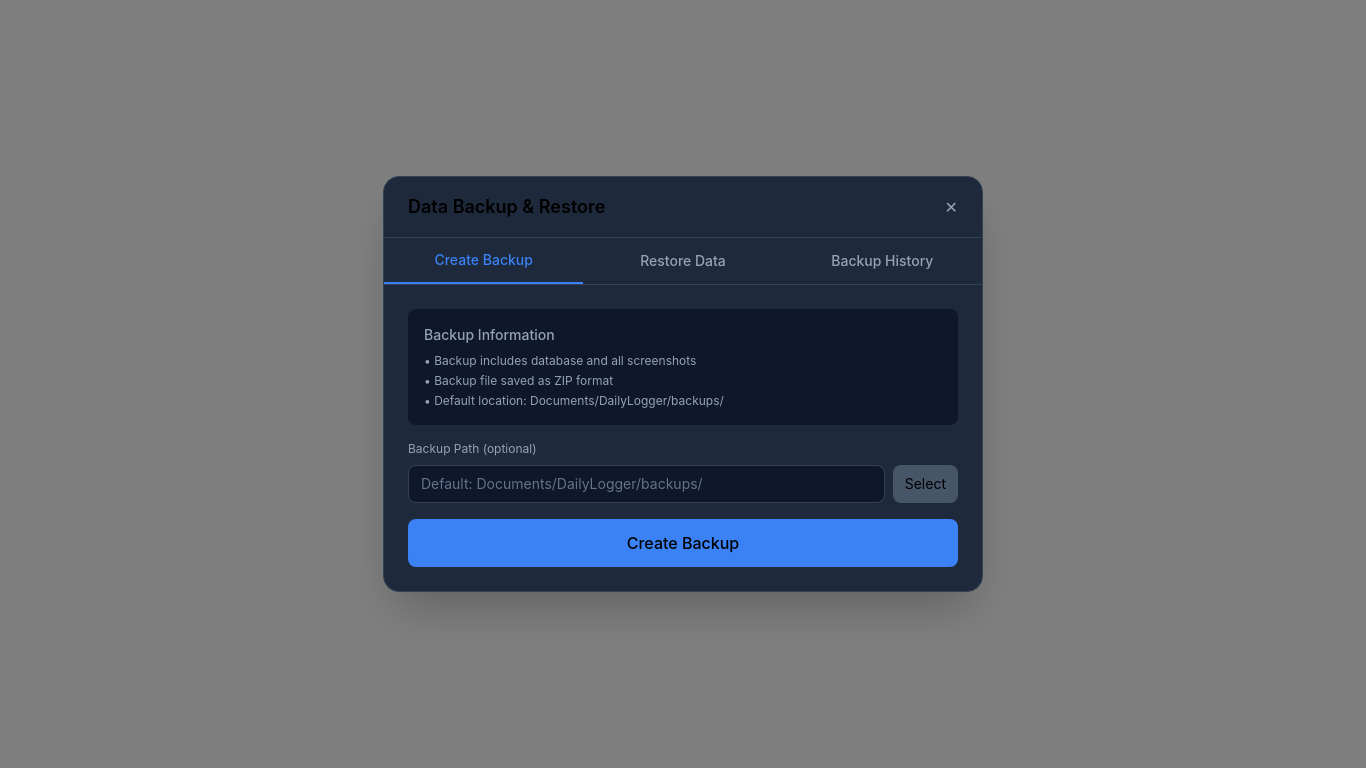
BackupModal › Tab Navigation › switches to history tab when clicked
This screenshot has width=1366, height=768.
Click the button "Backup History": (882, 261) [783,238,982,284]
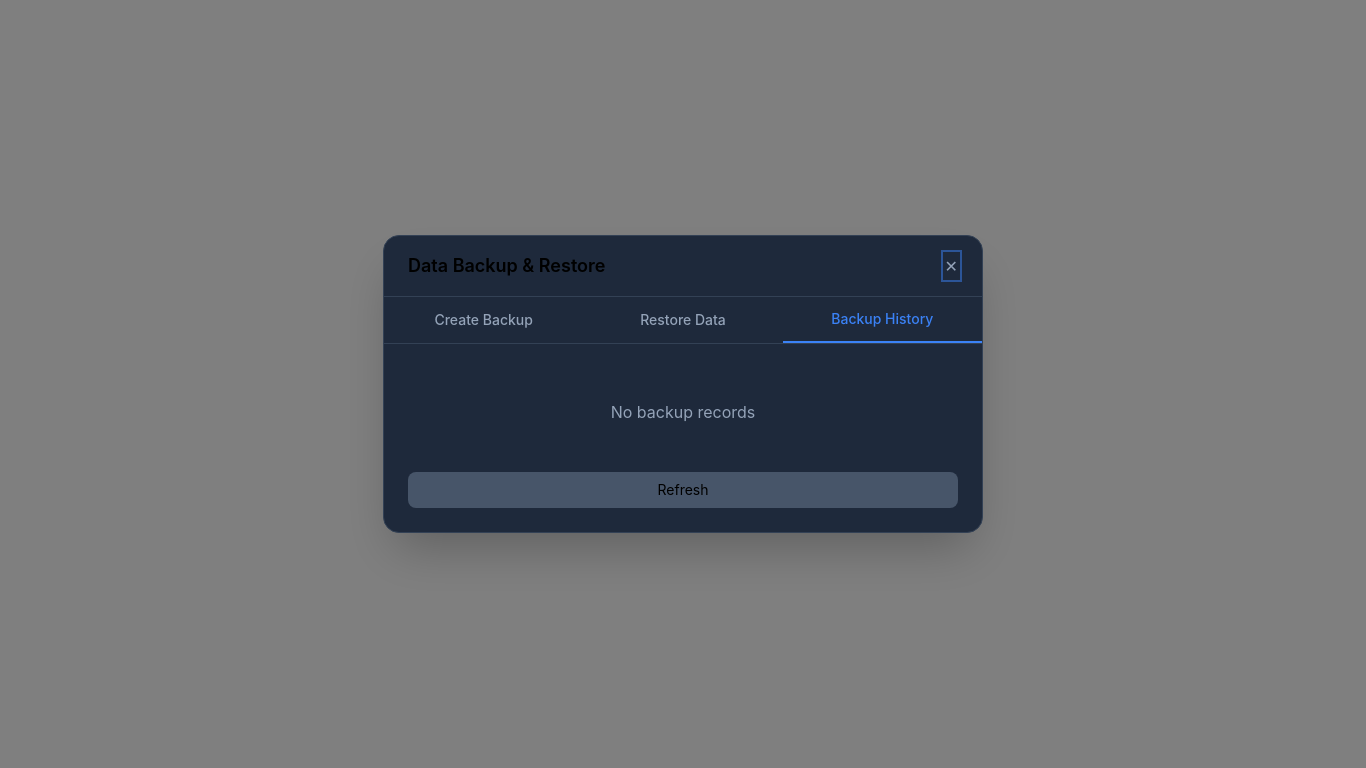
expect the text "No backup records" is shown: met, box [611,402,755,422]
